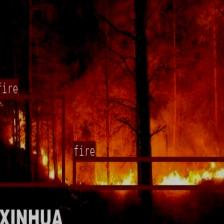fire: (0, 94, 64, 186), (72, 156, 224, 189)
